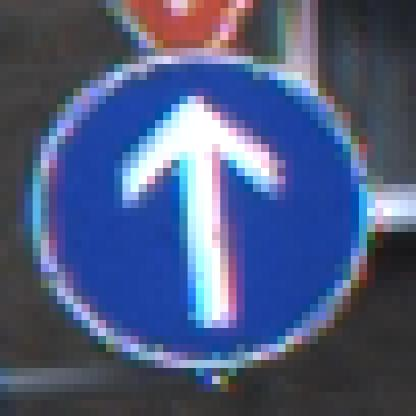AheadOnly: (42, 49, 376, 377)
